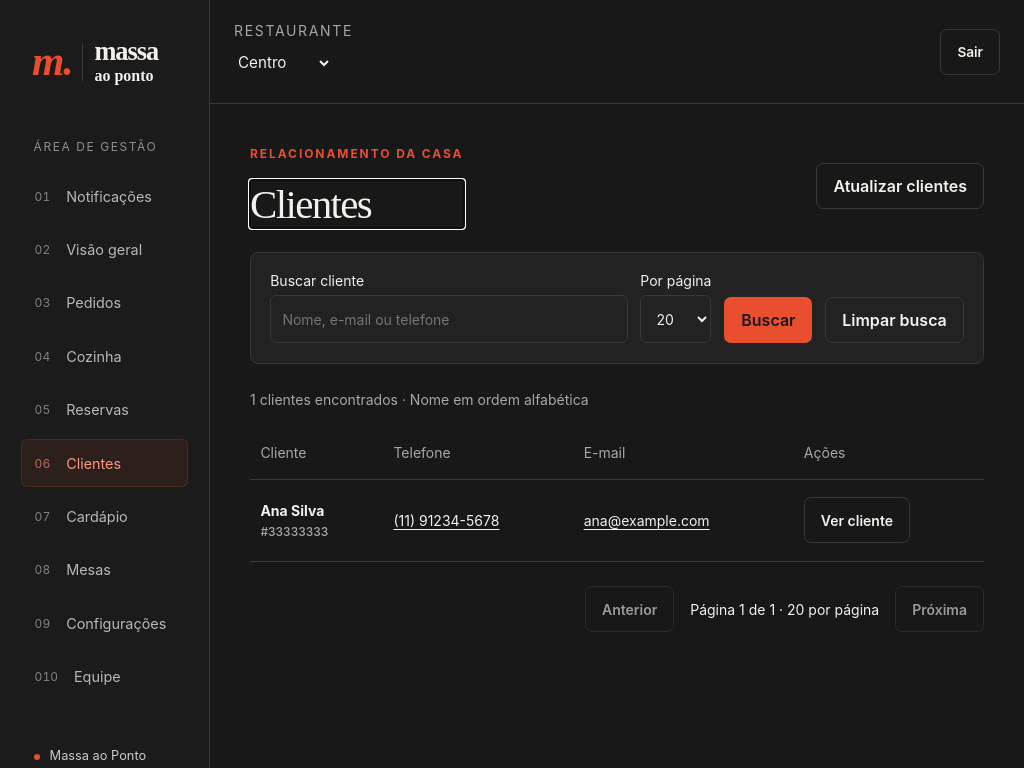
Test: Customers UI › loads tenant-aware detail and retries a failure
Click the button with aria-label "Abrir cliente Ana Silva": (857, 520) [804,497,910,543]
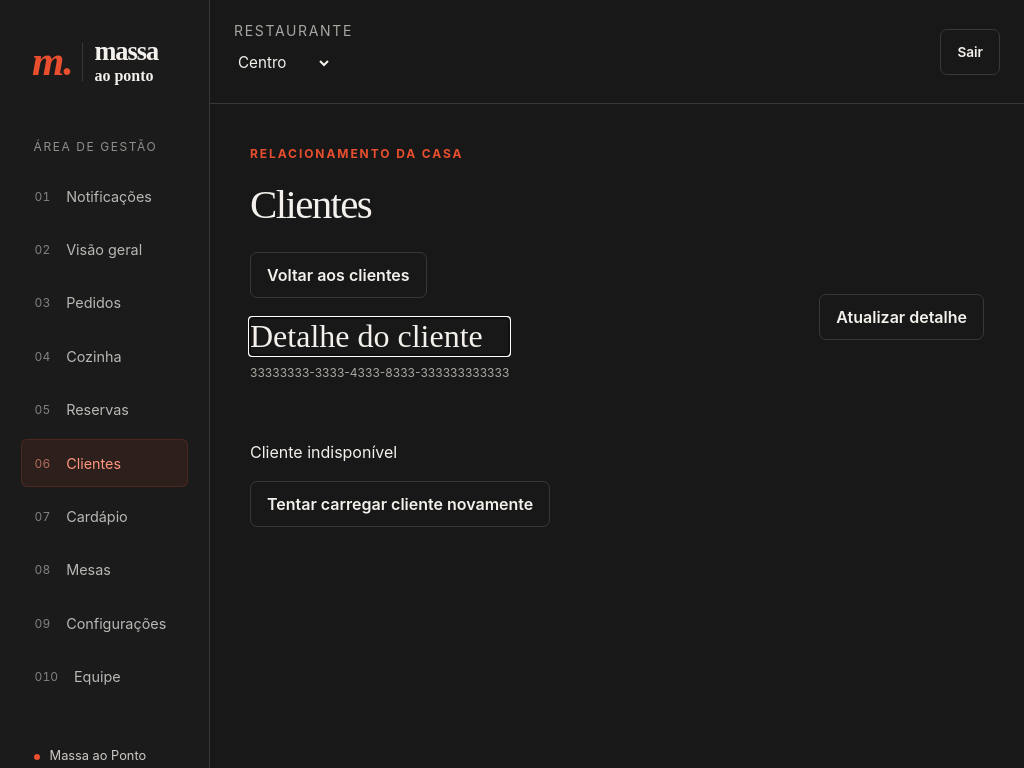
Expected: the text "Cliente indisponível" is shown, [250,442,397,462]
Click the button "Tentar carregar cliente novamente": (400, 504) [250,481,550,527]
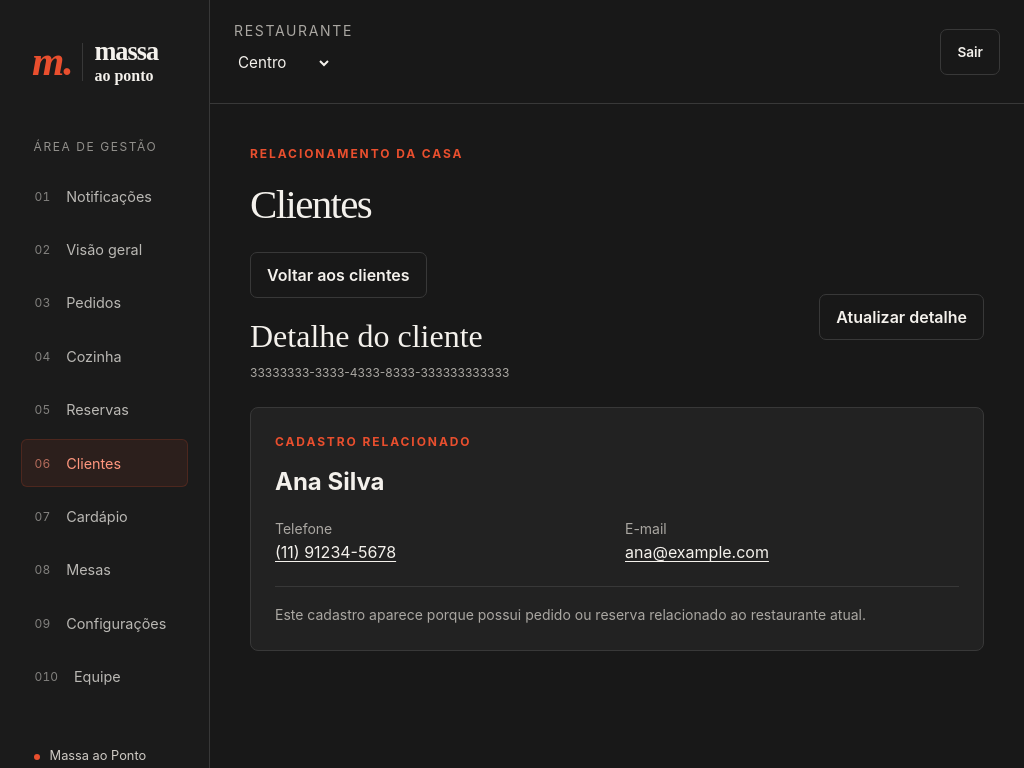
Expected: the heading "Ana Silva" is shown, [275,467,384,496]
